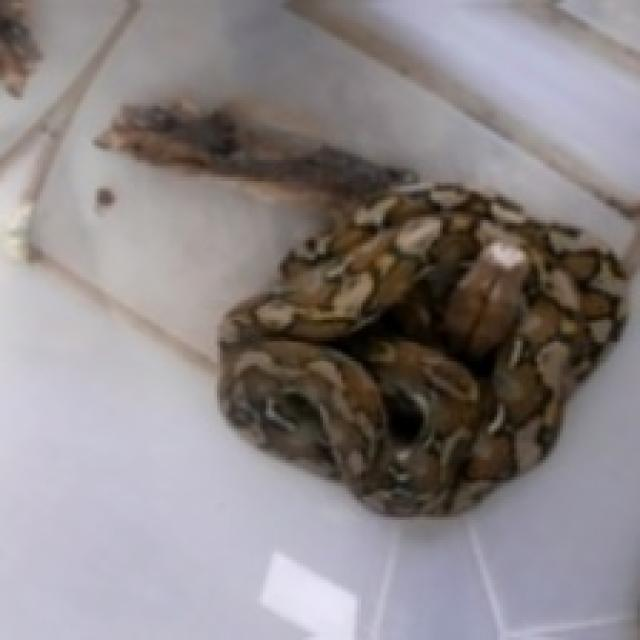reticulated python: (220, 186, 626, 514)
